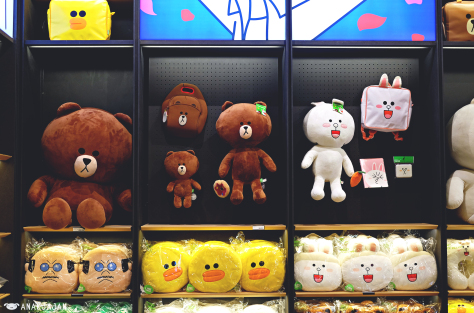line_brown: (38, 95, 137, 189), (213, 97, 278, 155)
